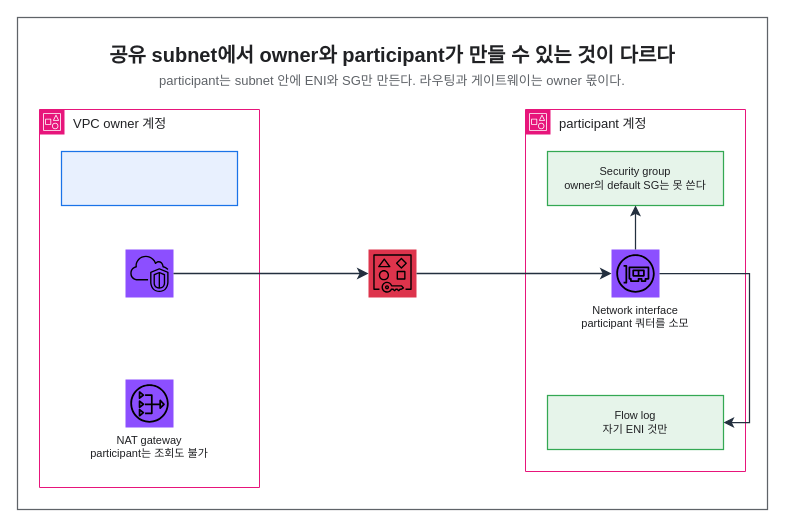
Some shapes in this 786 by 528 pixel diagram are drawn without their labels. Here are the shapes that lost their labels. From the top down, the centre of each, then its label:
At point (149, 178): "Route table participant는 조회만".
At point (149, 273): "Shared subnet default VPC subnet은 공유 불가".
At point (392, 273): "RAM resource share 조직 안 공유는 초대 없이 적용".
